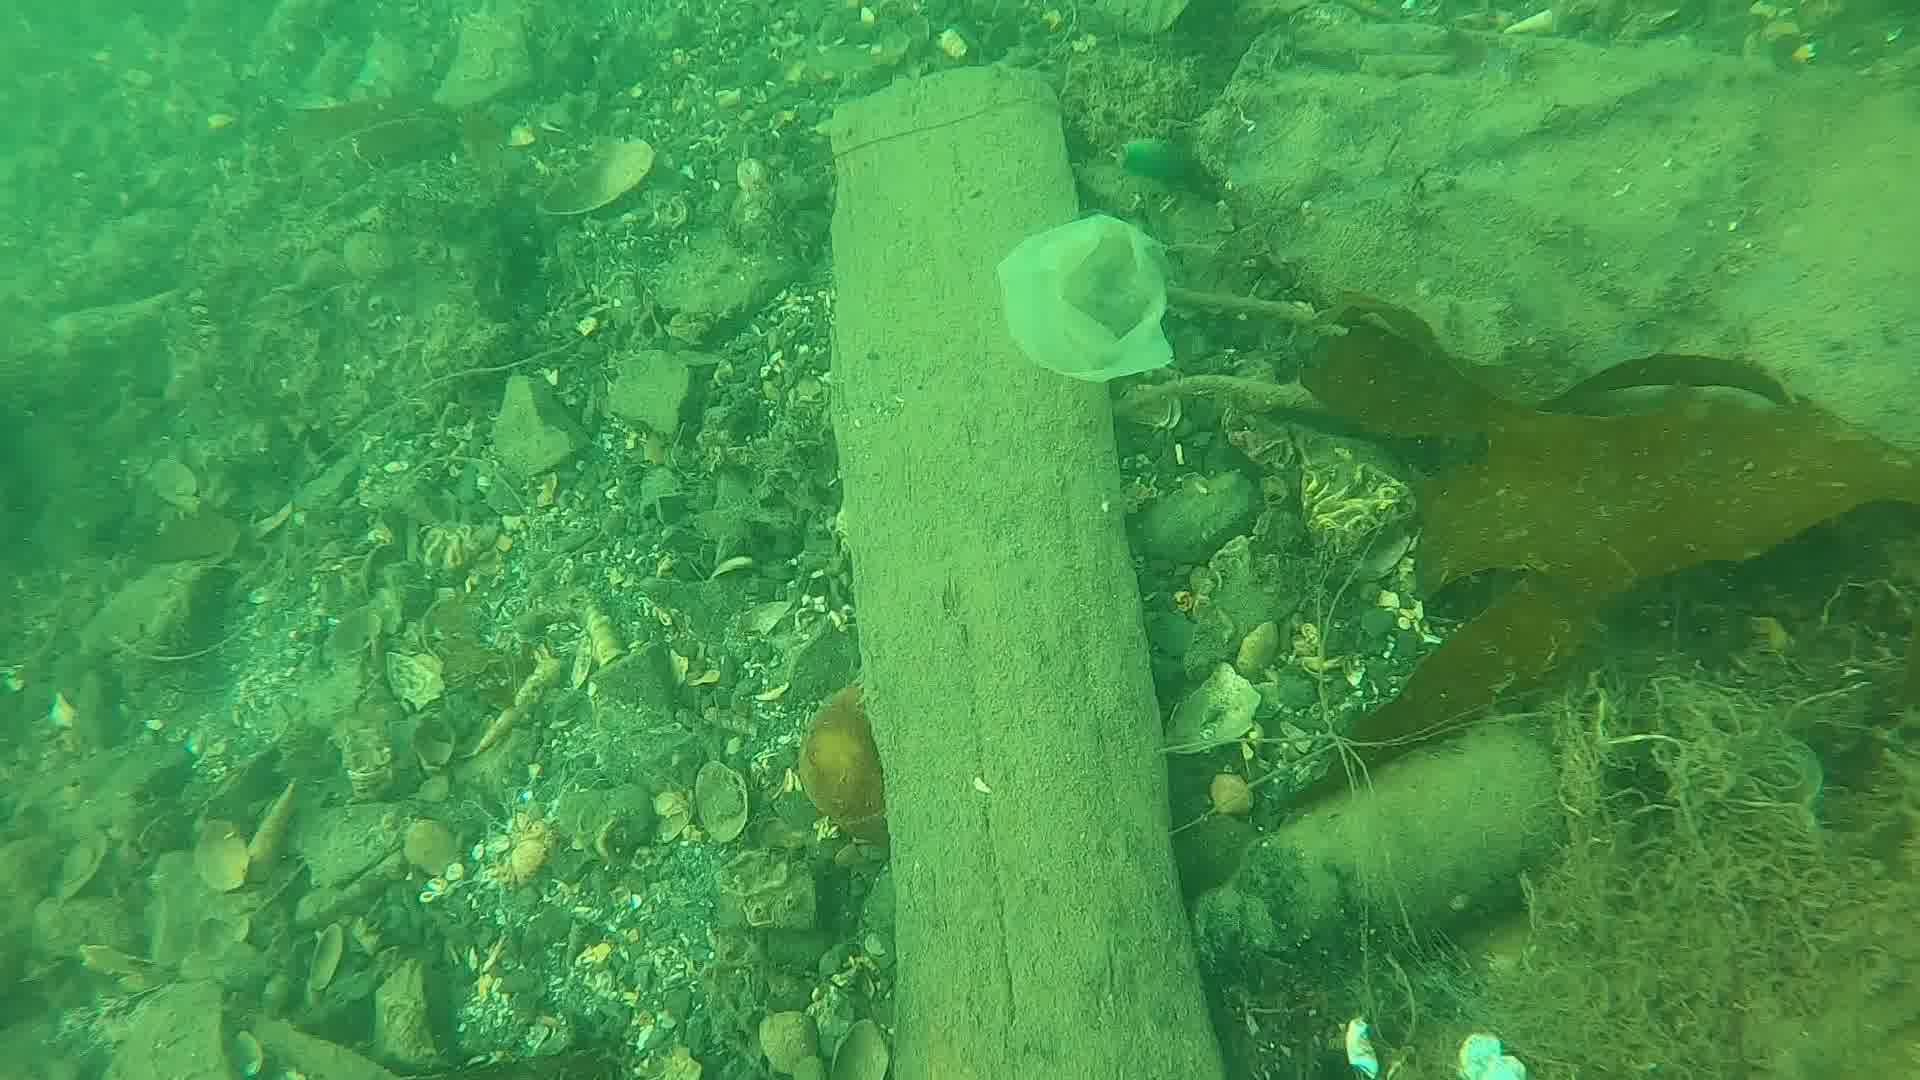wood: (820, 62, 1237, 1080)
